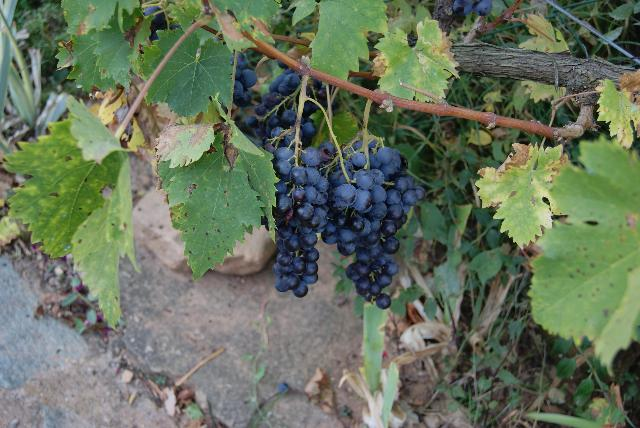grapes: (322, 139, 426, 309), (274, 146, 320, 298), (319, 141, 366, 214), (315, 216, 338, 245)
